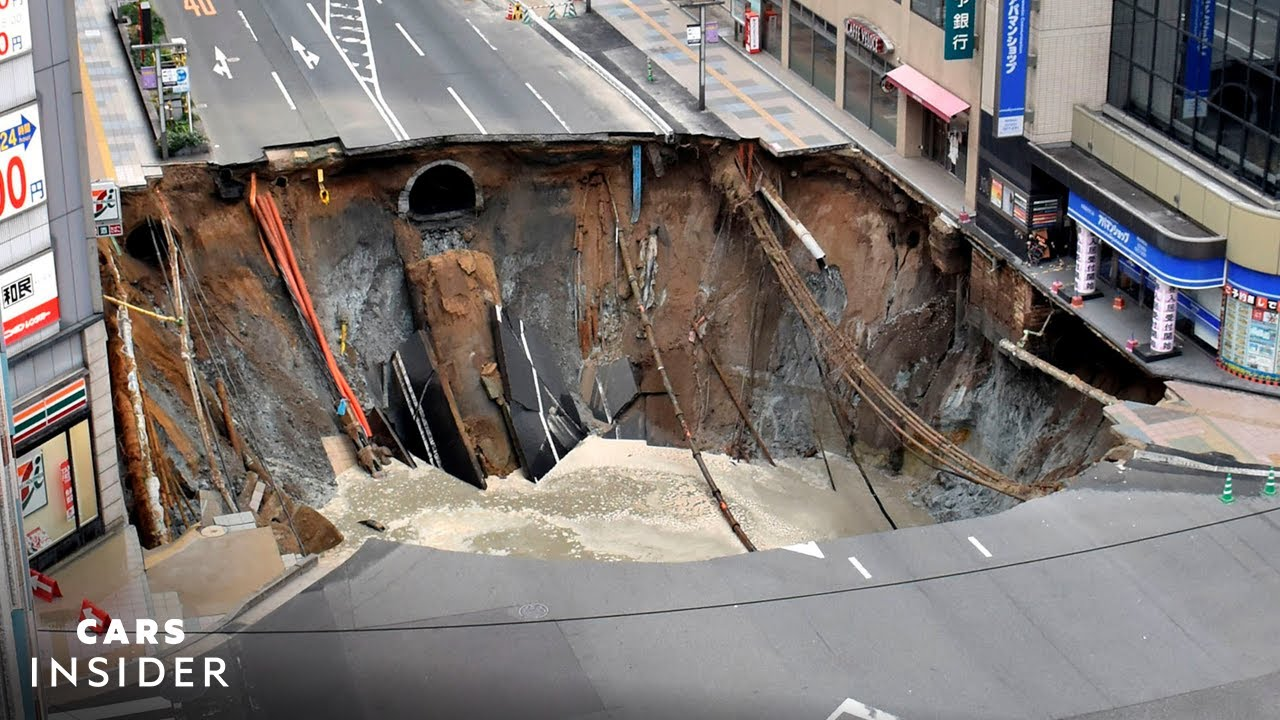Hole_in_the_road: (84, 129, 1169, 604)
